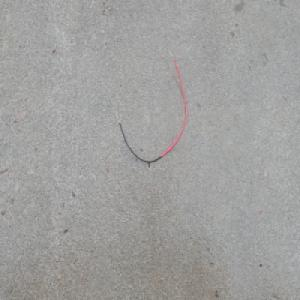Wire: (112, 48, 188, 166)
